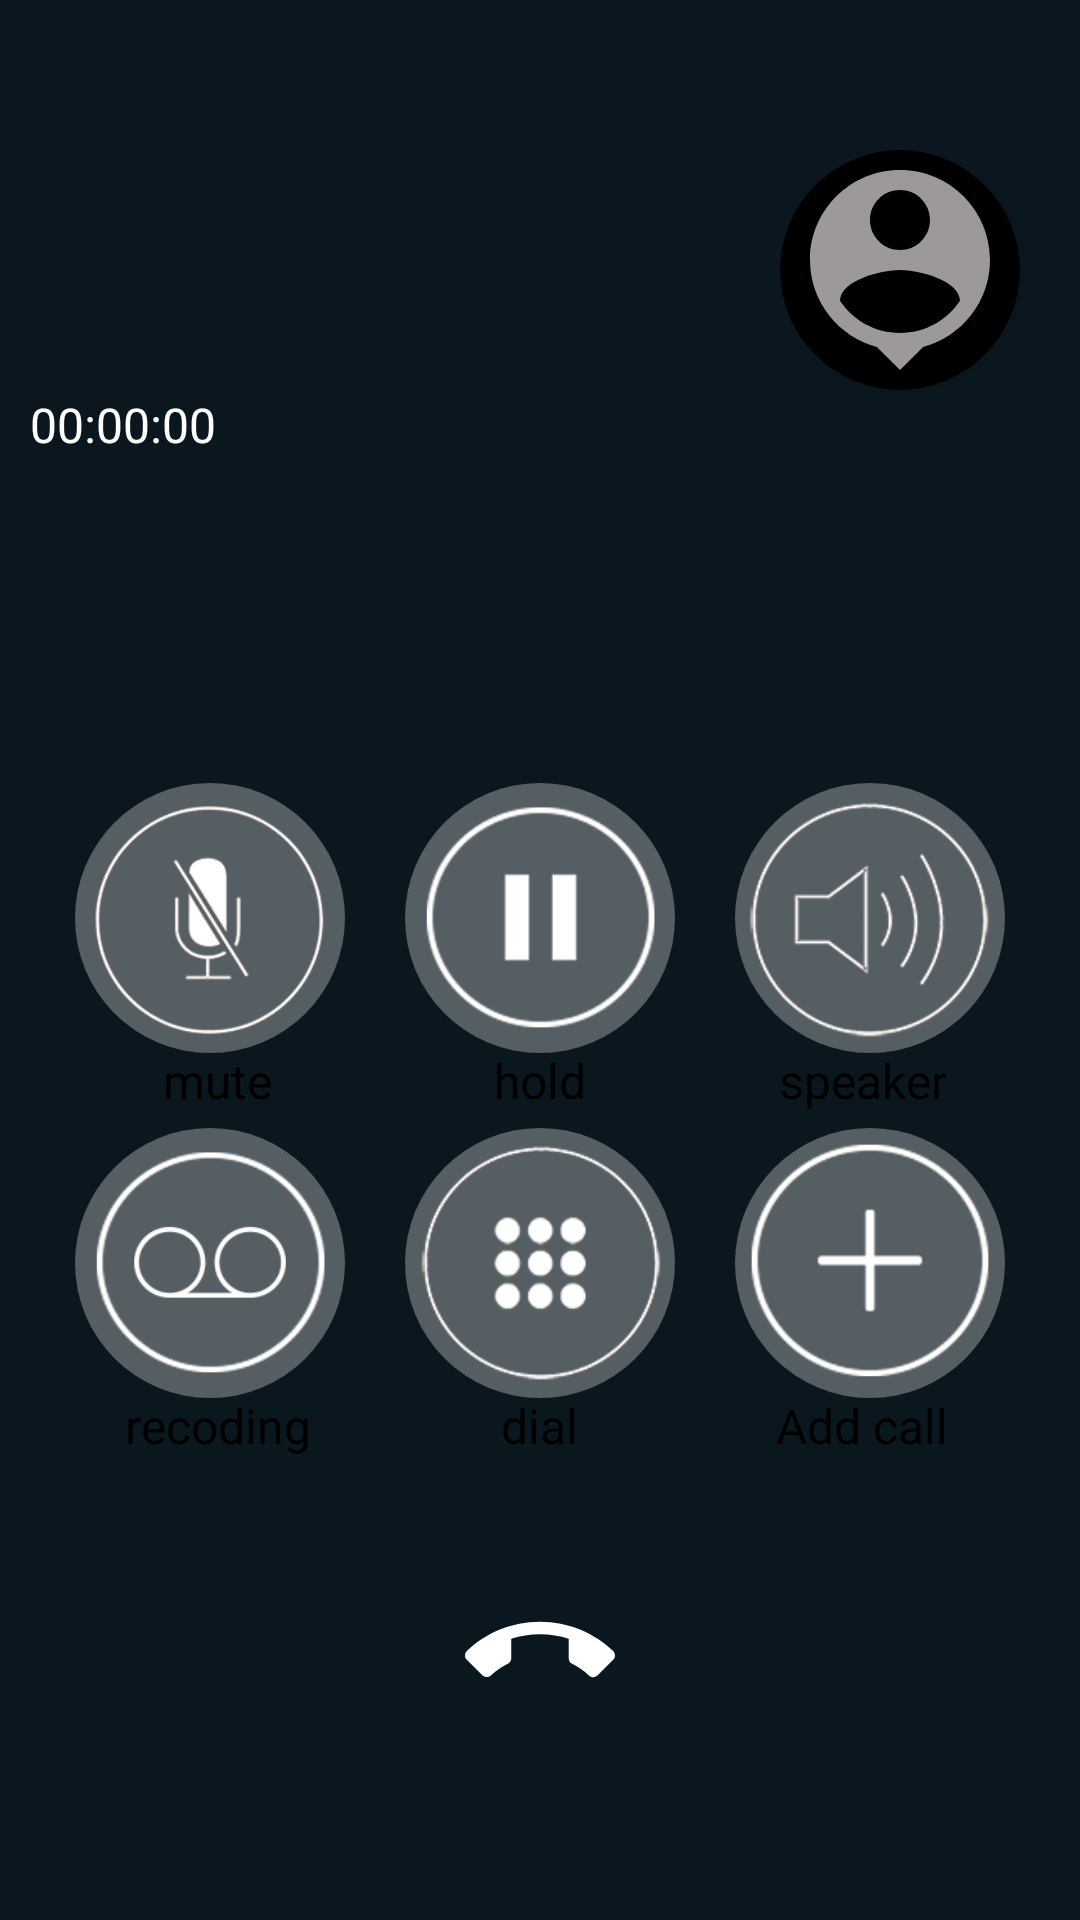

Icon bounding boxes for this 1080w x 1920h phone screenshot, format (x1, y1, x2, y2):
call end: (465, 1621, 615, 1678)
contact: (780, 150, 1020, 390)
